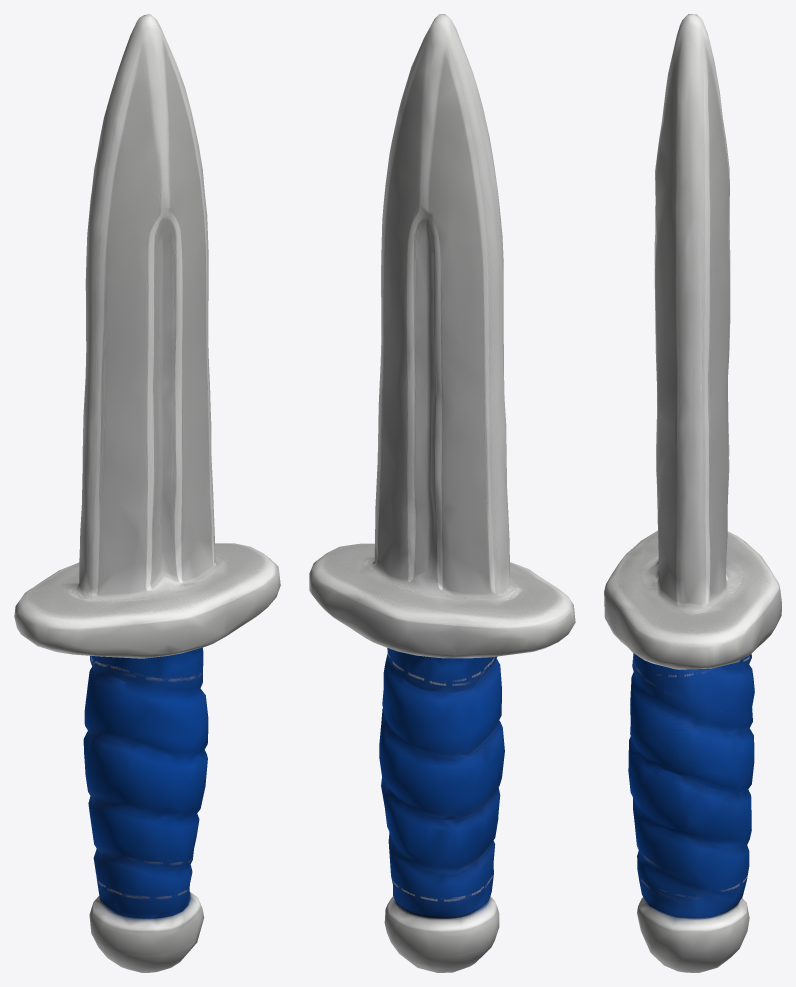
File: HumanBlade.fbx
The picture shows the model from 3 angles, left to right: view 1: azimuth 30°, elevation 25°; view 2: azimuth 150°, elevation 25°; view 3: azimuth 270°, elevation 25°; orthographic projection.
Visible parts, largest first — view 1: Mesh_0; view 2: Mesh_0; view 3: Mesh_0.
Part boxes in pixels (x1,y1,x2,y2): Mesh_0: (14, 14, 280, 972); Mesh_0: (309, 14, 575, 972); Mesh_0: (604, 14, 781, 972).
Size of the model in its own units: 51.86 by 191 by 32.33.
Materials: 1 (1 with a texture image).
